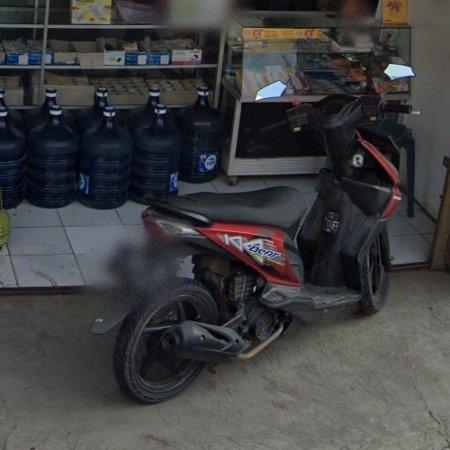motorcycles: (114, 95, 404, 404)
